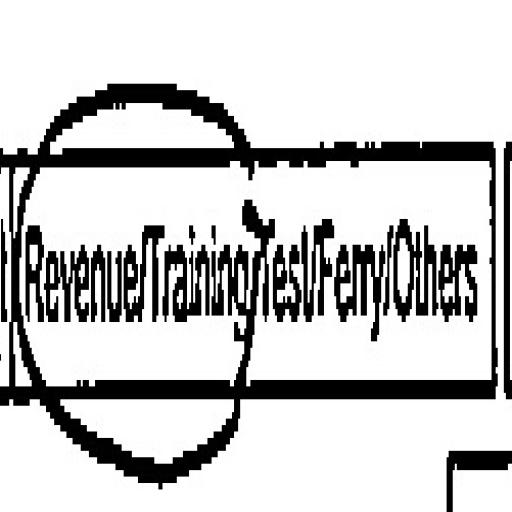check: (8, 69, 143, 512), (145, 57, 253, 502)
